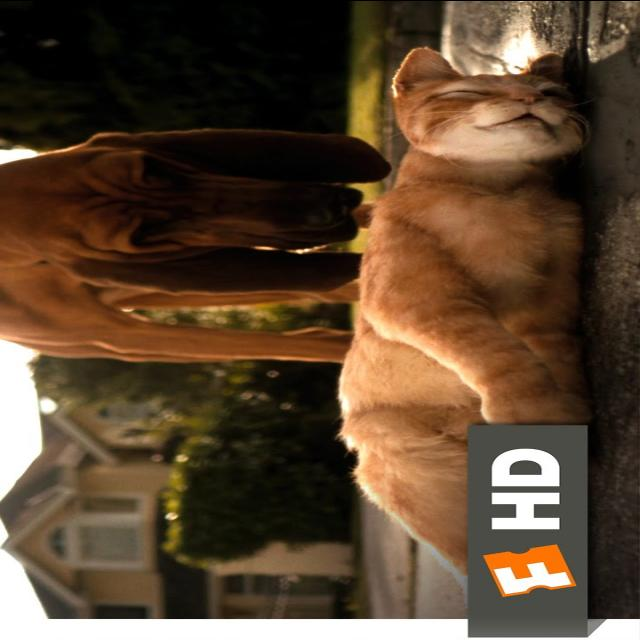cat: (322, 21, 606, 615)
dog: (0, 121, 396, 362)
